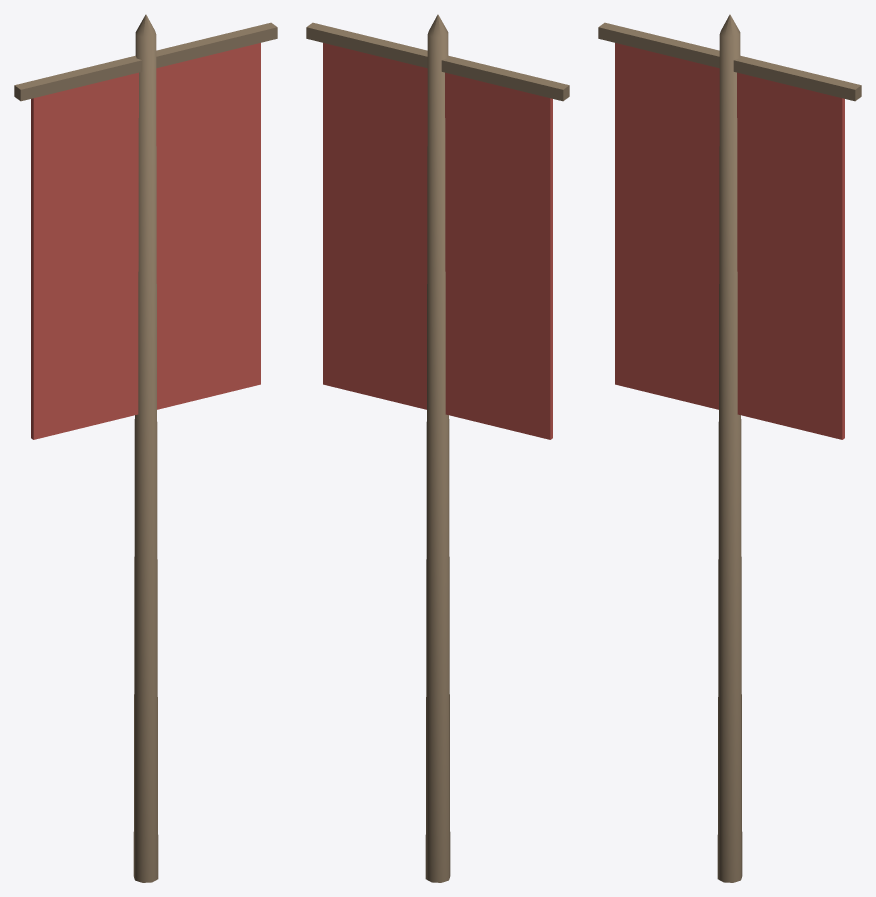
The model's file is banner.glb.
3 renders of one model, left to right at view 1: azimuth 30°, elevation 25°; view 2: azimuth 150°, elevation 25°; view 3: azimuth 330°, elevation 25°, orthographic.
Visible parts, largest first — view 1: cloth, banner; view 2: cloth, banner; view 3: cloth, banner.
Boxes of the visible parts, x1=… form: cloth: x1=31, y1=43, x2=260, y2=439; banner: x1=14, y1=14, x2=277, y2=882; cloth: x1=323, y1=43, x2=552, y2=439; banner: x1=306, y1=14, x2=569, y2=882; cloth: x1=615, y1=43, x2=844, y2=439; banner: x1=598, y1=14, x2=861, y2=882.
Bounding box in the file's own units: 1.4 × 4.5 × 0.12.
